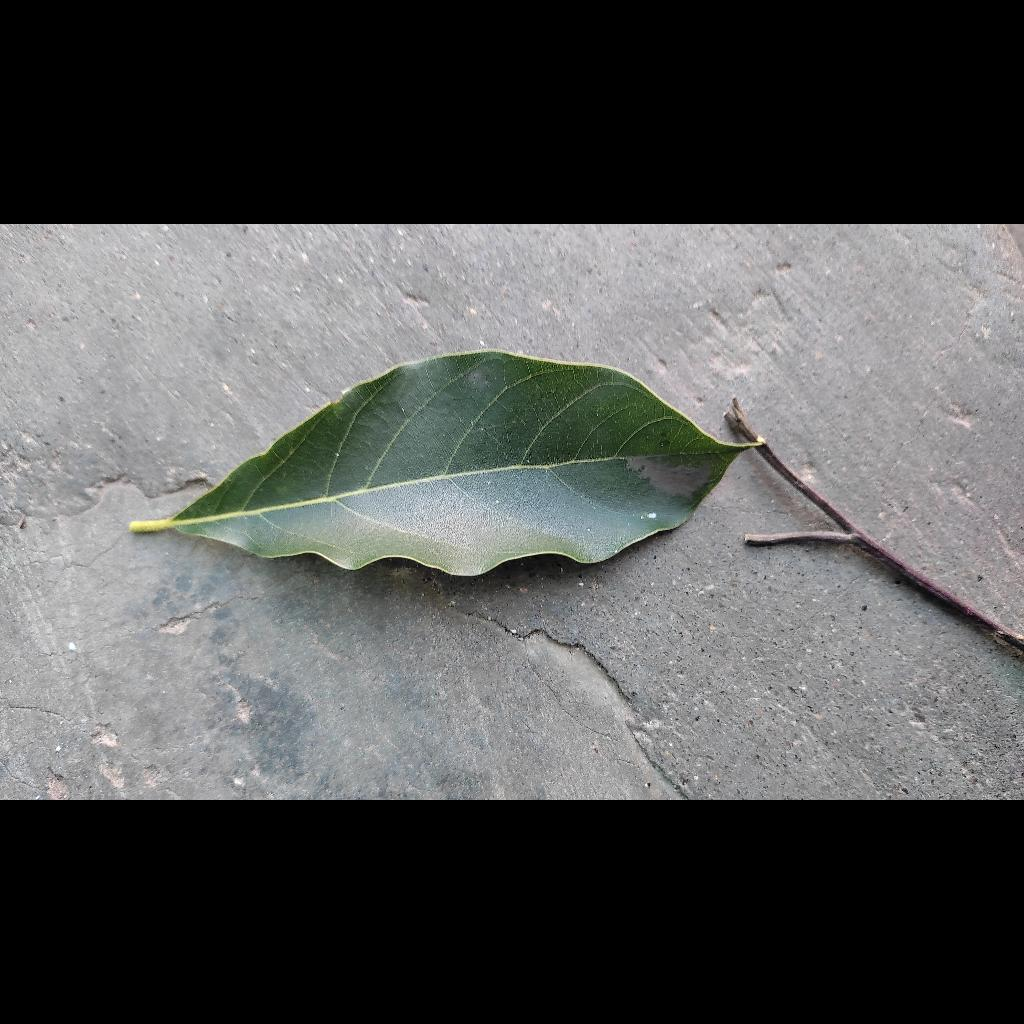powdery_mildew: (638, 502, 668, 528)
